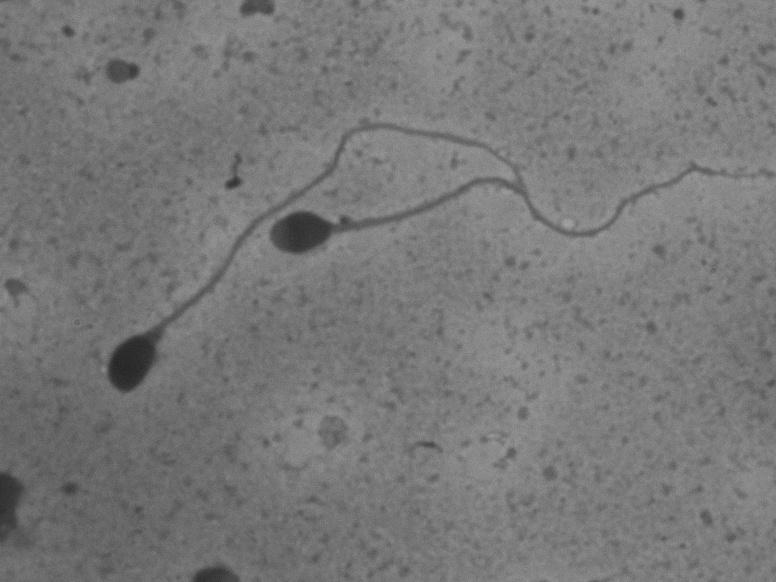Normal: (96, 110, 529, 410), (261, 149, 771, 273)
